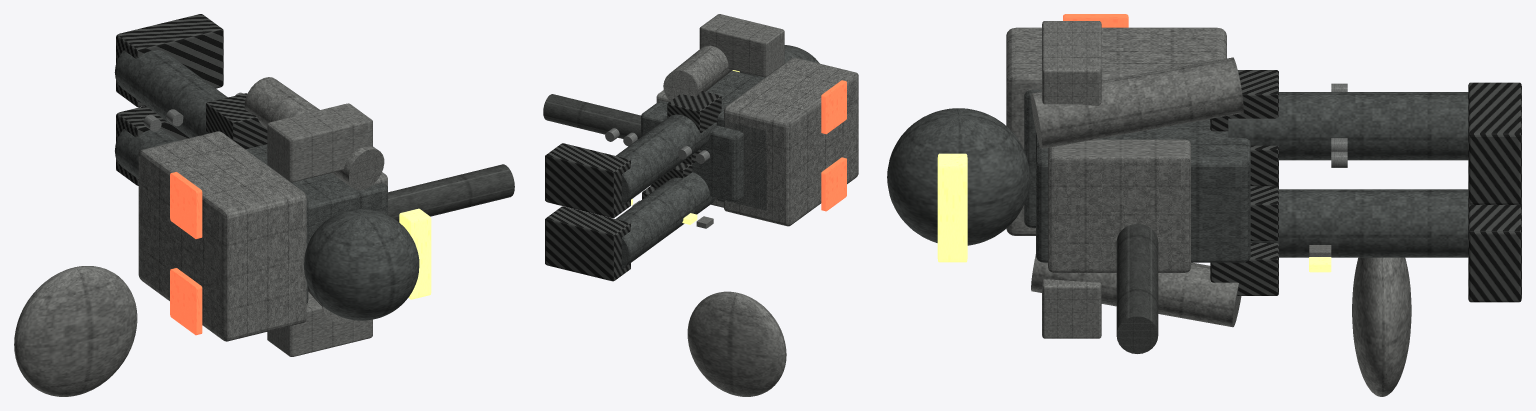
Rendered from c-u04-field-medic-lod0.glb.
3 views of the same model, side by side, from view 1: azimuth 30°, elevation 25°; view 2: azimuth 150°, elevation 25°; view 3: azimuth 270°, elevation 25° (orthographic). The views are drawn at different scales.
Parts seen in each view (by area): view 1: medical_pack, medic_drone, soldier_0_helmet, soldier_0_shoulder_1, soldier_0_leg_1, soldier_0_boot_1, soldier_0_rifle, soldier_0_arm_1, soldier_0_torso, soldier_0_shoulder_-1, soldier_0_pouch_3, medical_cross_-1 (+4 smaller); view 2: medical_pack, medic_drone, soldier_0_boot_-1, soldier_0_boot_1, soldier_0_torso, soldier_0_leg_-1, soldier_0_leg_1, soldier_0_shoulder_1, soldier_0_rifle, soldier_0_arm_1, soldier_0_backpack, soldier_0_pouch_3 (+4 smaller); view 3: soldier_0_chest, soldier_0_leg_1, soldier_0_helmet, soldier_0_leg_-1, soldier_0_arm_1, soldier_0_torso, medical_pack, medic_drone, soldier_0_boot_1, soldier_0_boot_-1, soldier_0_arm_-1, soldier_0_rifle (+9 smaller).
Part boxes in pixels (left/top/right/bottom): medical_pack: left=138, top=131, right=306, bottom=341; medic_drone: left=14, top=266, right=137, bottom=396; soldier_0_helmet: left=304, top=209, right=419, bottom=320; soldier_0_shoulder_1: left=267, top=103, right=372, bottom=182; soldier_0_leg_1: left=114, top=50, right=227, bottom=137; soldier_0_boot_1: left=116, top=14, right=223, bottom=107; soldier_0_rifle: left=388, top=164, right=514, bottom=221; soldier_0_arm_1: left=244, top=77, right=384, bottom=190; soldier_0_torso: left=245, top=144, right=387, bottom=242; soldier_0_shoulder_-1: left=267, top=292, right=372, bottom=356; soldier_0_pouch_3: left=206, top=93, right=267, bottom=149; medical_cross_-1: left=170, top=268, right=202, bottom=335; medical_pack: left=724, top=57, right=858, bottom=226; medic_drone: left=687, top=291, right=786, bottom=396; soldier_0_boot_-1: left=545, top=206, right=630, bottom=281; soldier_0_boot_1: left=545, top=143, right=630, bottom=218; soldier_0_torso: left=641, top=70, right=763, bottom=201; soldier_0_leg_-1: left=616, top=172, right=715, bottom=268; soldier_0_leg_1: left=616, top=114, right=716, bottom=205; soldier_0_shoulder_1: left=699, top=14, right=784, bottom=77; soldier_0_rifle: left=543, top=94, right=640, bottom=139; soldier_0_arm_1: left=663, top=45, right=732, bottom=100; soldier_0_backpack: left=717, top=110, right=766, bottom=210; soldier_0_pouch_3: left=667, top=91, right=721, bottom=132; soldier_0_chest: left=1048, top=139, right=1190, bottom=272; soldier_0_leg_1: left=1228, top=92, right=1468, bottom=160; soldier_0_helmet: left=887, top=108, right=1029, bottom=245; soldier_0_leg_-1: left=1250, top=189, right=1468, bottom=257; soldier_0_arm_1: left=1031, top=57, right=1243, bottom=148; soldier_0_torso: left=1036, top=119, right=1250, bottom=262; medical_pack: left=1006, top=27, right=1226, bottom=235; medic_drone: left=1352, top=257, right=1411, bottom=396; soldier_0_boot_1: left=1468, top=82, right=1521, bottom=204; soldier_0_boot_-1: left=1468, top=201, right=1521, bottom=302; soldier_0_arm_-1: left=1031, top=254, right=1241, bottom=327; soldier_0_rifle: left=1116, top=223, right=1158, bottom=353.
Size of what is drawn, in the model's own units: 1.88 by 1.54 by 2.13.
Materials: 7 (7 with a texture image).
